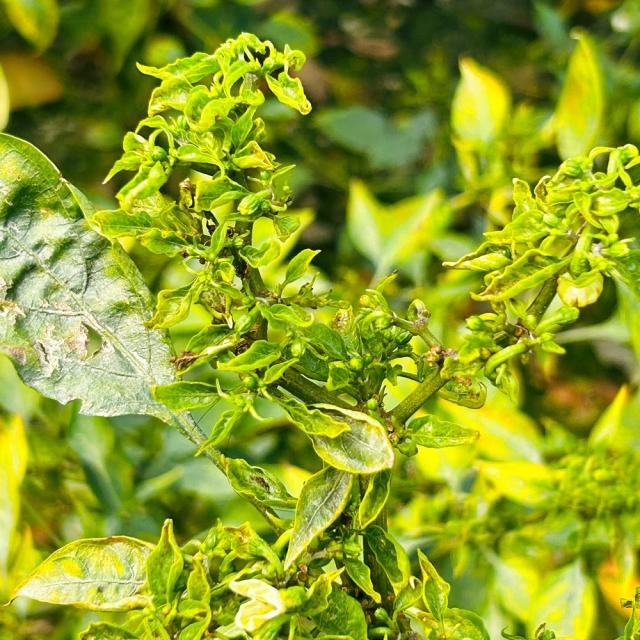Chilli_Leaf_Curl: (1, 27, 638, 637), (0, 131, 218, 451), (441, 142, 638, 388), (4, 533, 159, 614), (281, 464, 354, 573), (306, 402, 395, 475)
